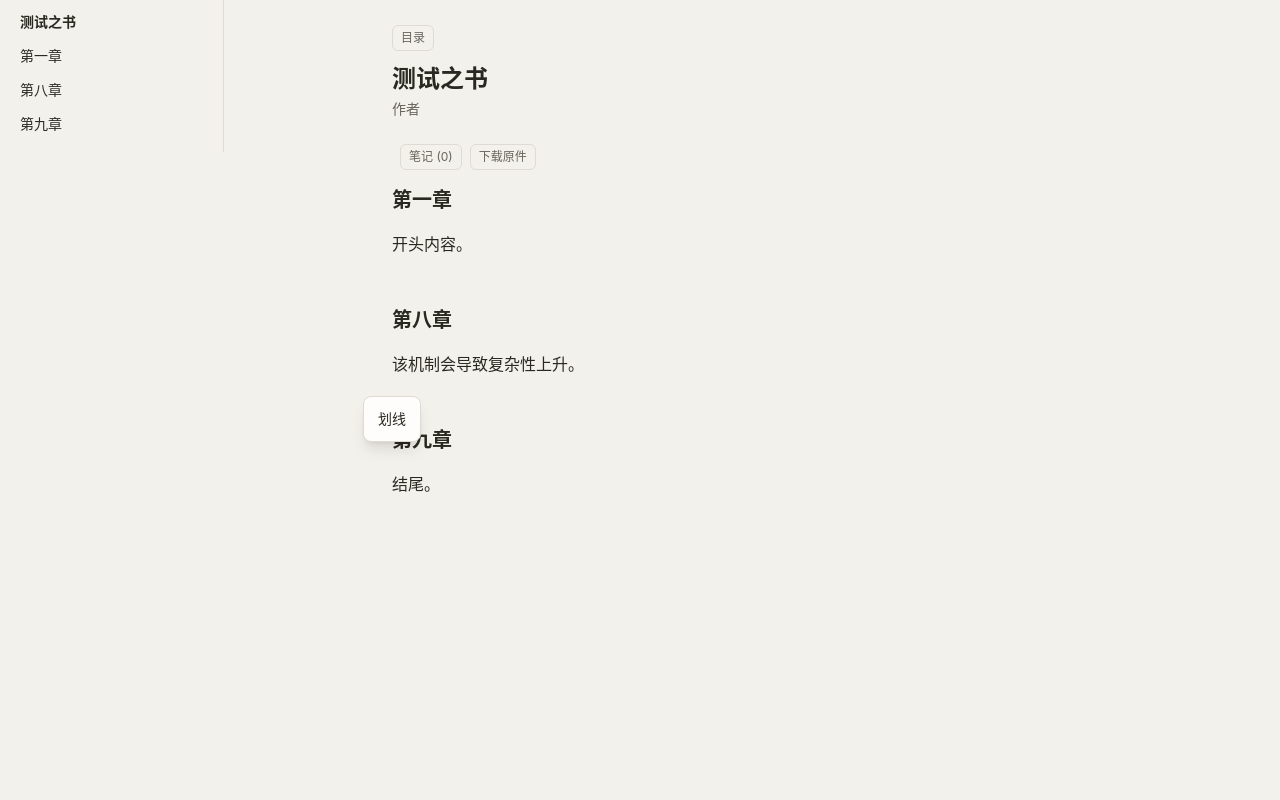
Test case: highlighting › writes a highlight from the selection toolbar
Expected: the heading "测试之书" is shown, [392, 64, 488, 93]
Click the button "划线" at (392, 419), box [368, 401, 416, 437]
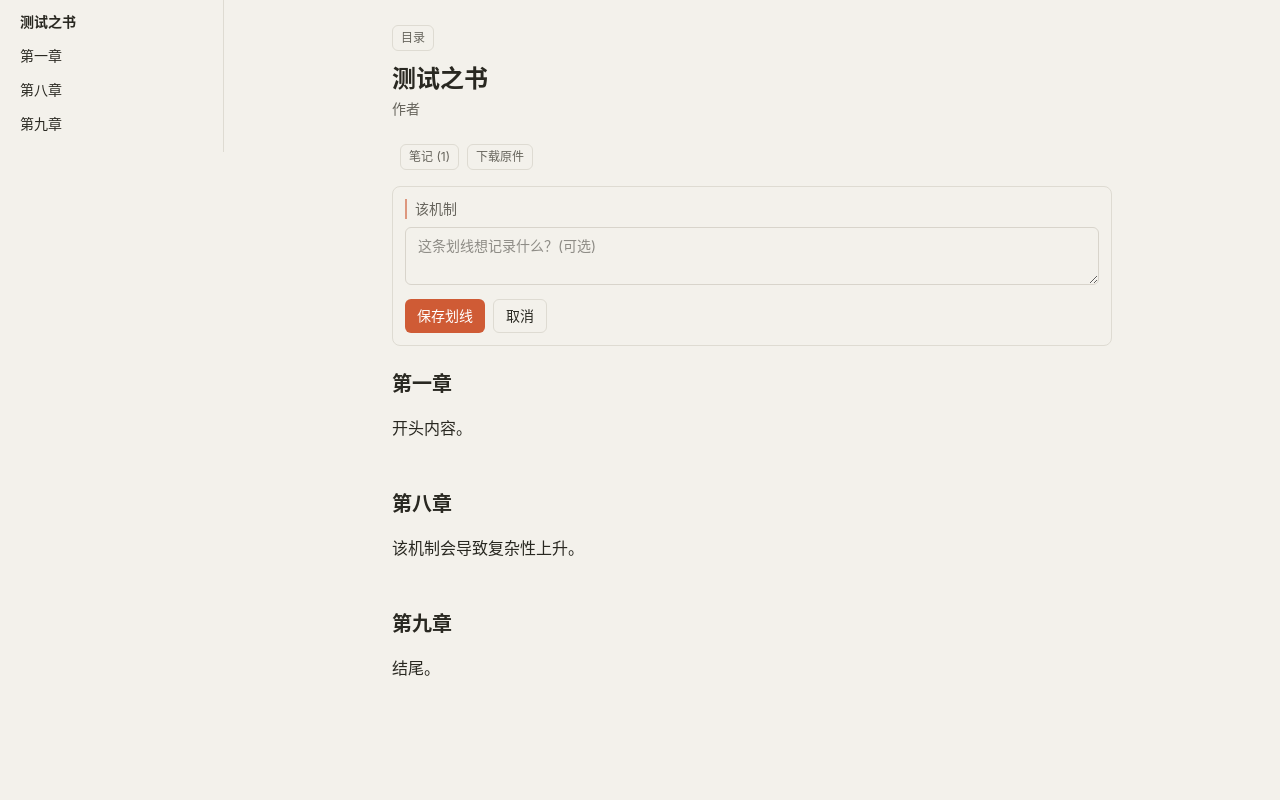
Type "想法" into the text box with placeholder "这条划线想记录什么？(可选)" at (752, 256), box [405, 227, 1099, 285]
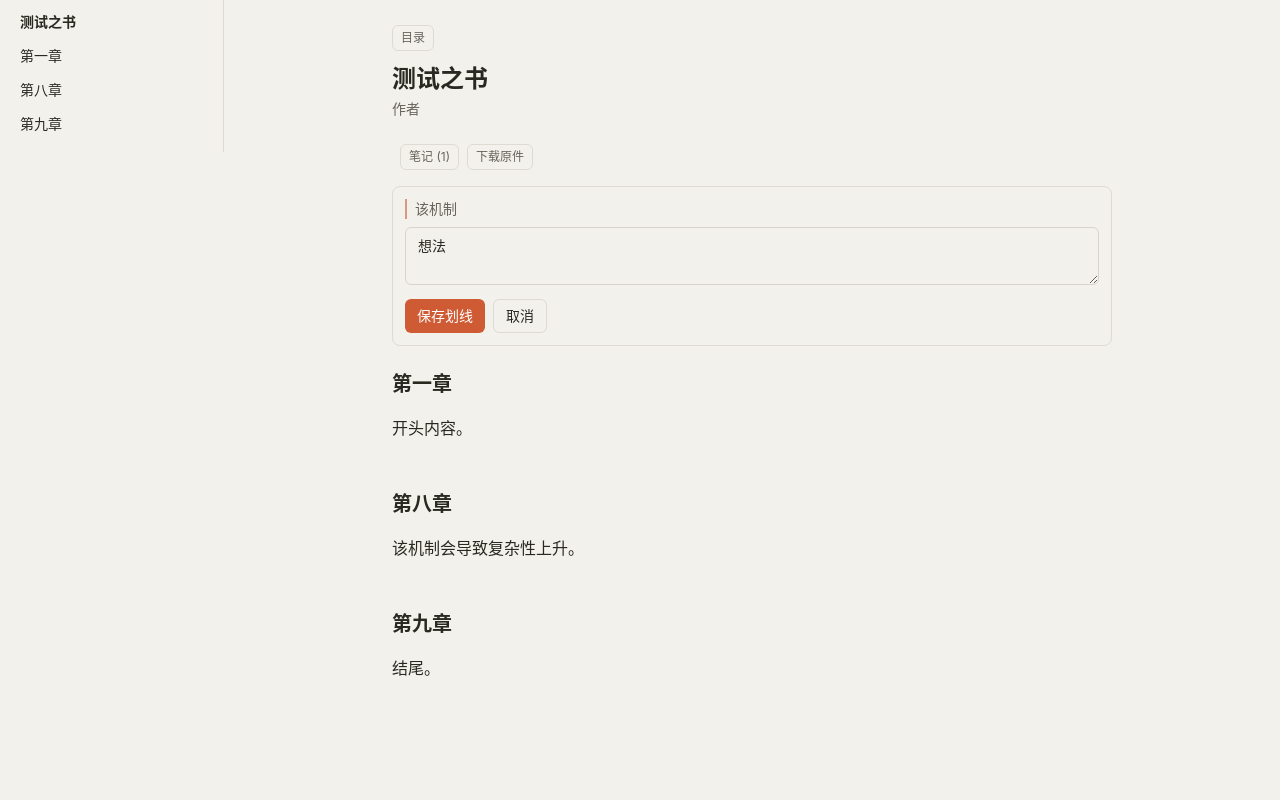
Click the button "保存划线" at (445, 316), box [405, 299, 485, 333]
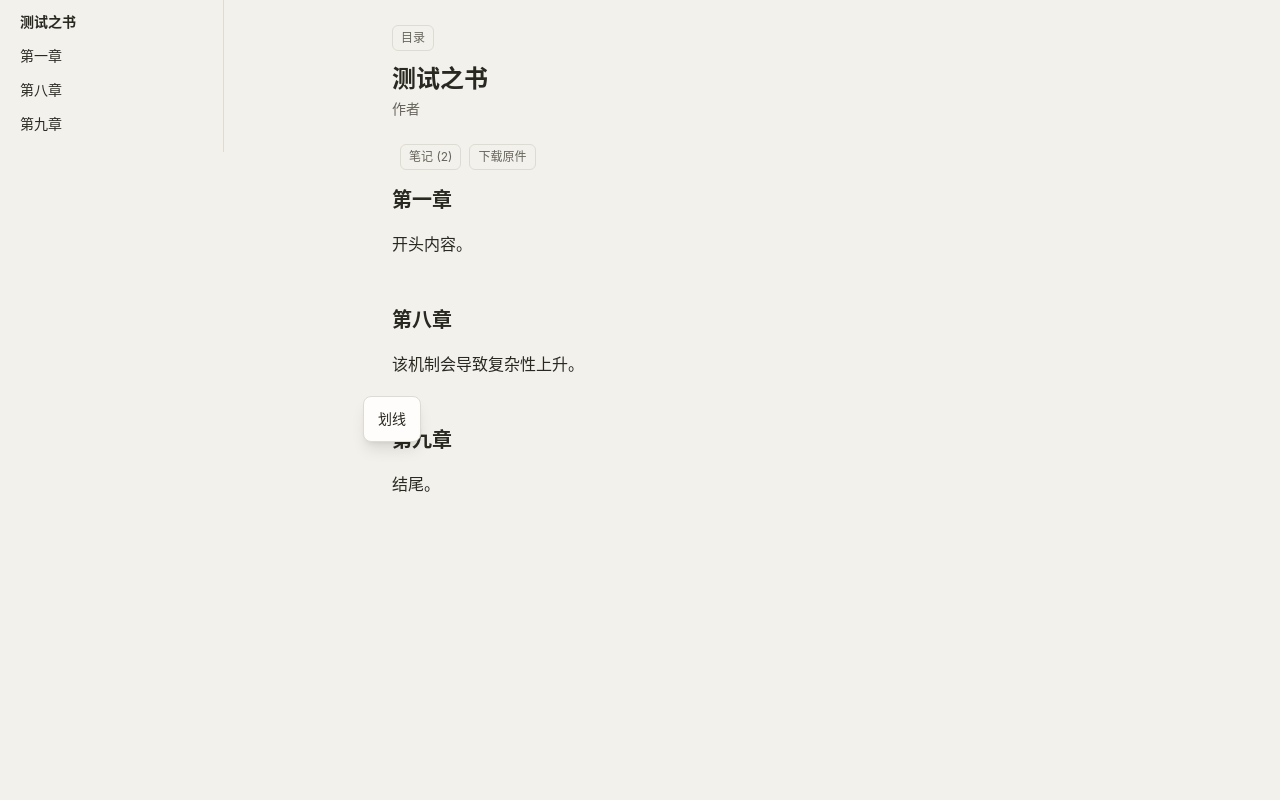
Click the button "笔记 (2)" at (431, 157), box [400, 144, 462, 170]
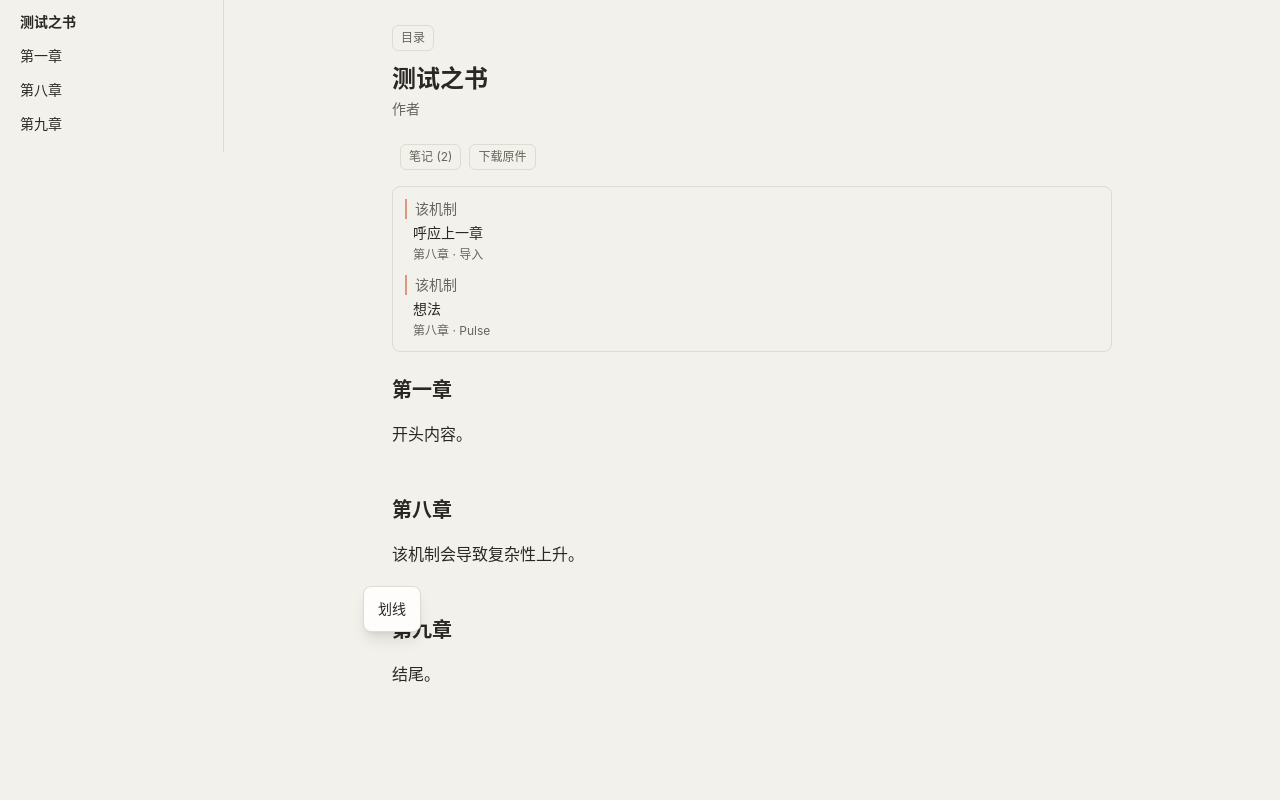
Expected: the text "想法" is shown, [413, 300, 441, 317]
Expected: the text "第八章 · Pulse" is shown, [413, 323, 490, 338]
